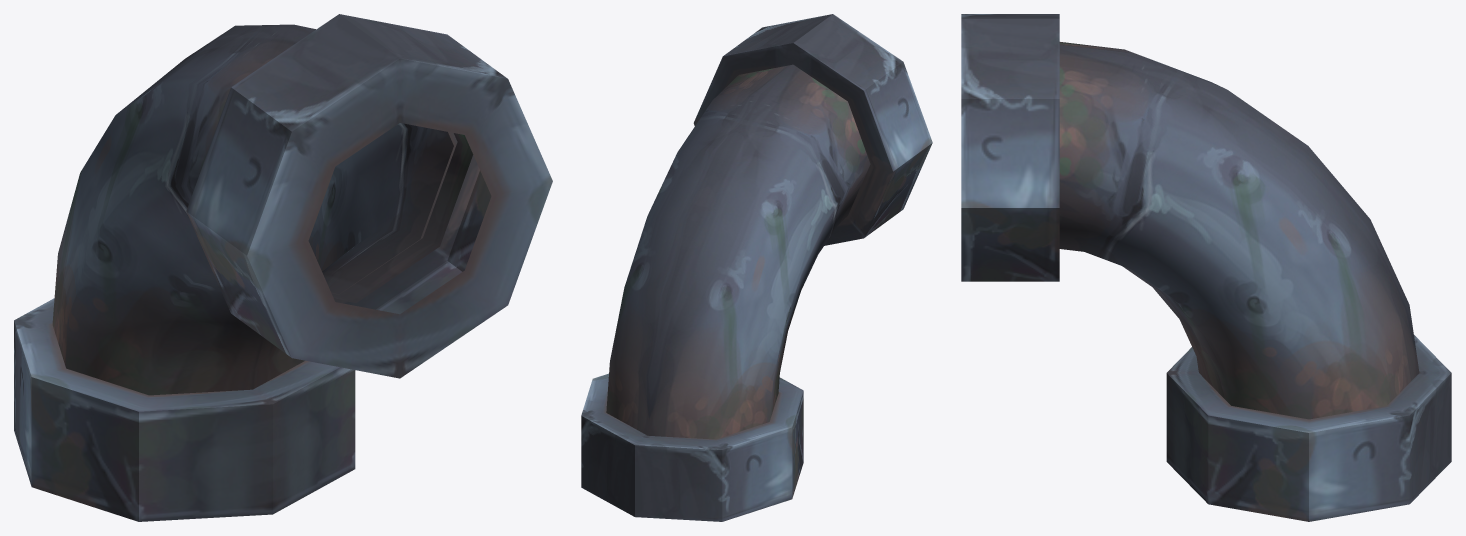
File: PipeBigBend.FBX
3 views of the same model, side by side, from view 1: azimuth 30°, elevation 25°; view 2: azimuth 150°, elevation 25°; view 3: azimuth 270°, elevation 25° (orthographic). The views are drawn at different scales.
Visible parts, largest first — view 1: PipeBigBend; view 2: PipeBigBend; view 3: PipeBigBend.
Part boxes in pixels (x1,y1,x2,y2): PipeBigBend: [14, 14, 552, 521]; PipeBigBend: [581, 14, 932, 521]; PipeBigBend: [961, 14, 1451, 521].
Bounding box in the file's own units: 77.54 × 133 × 133.
Materials: 1 (1 with a texture image).
